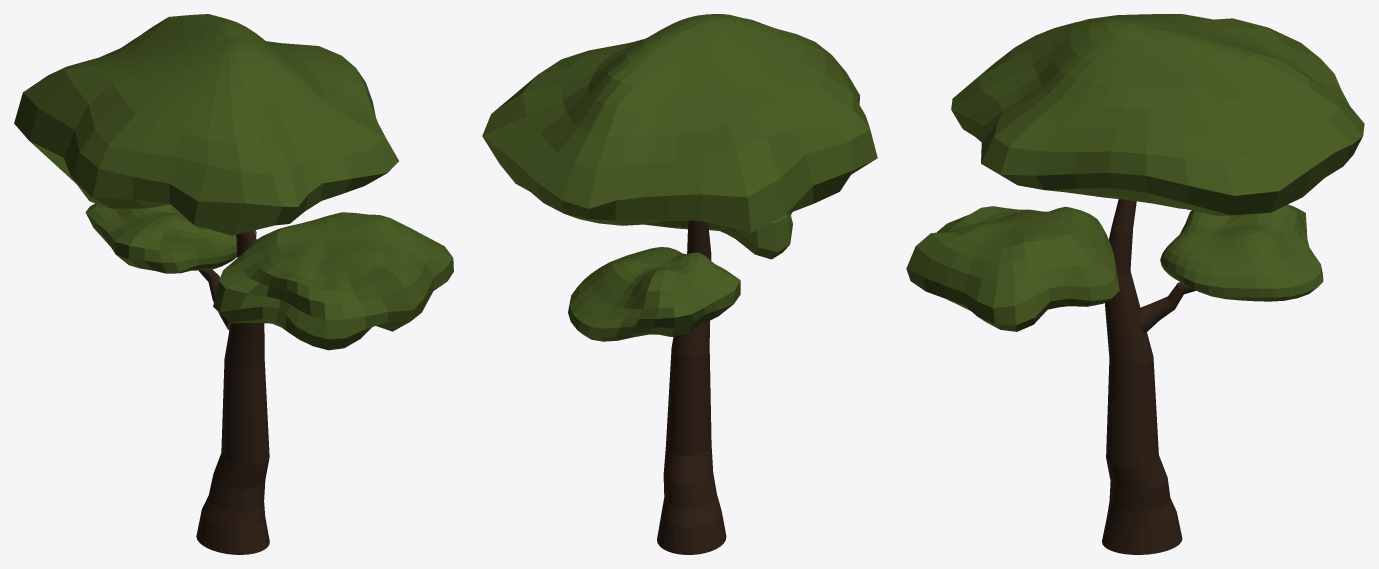
The model's file is Tree3.fbx.
The picture shows the model from 3 angles, left to right: view 1: azimuth 30°, elevation 25°; view 2: azimuth 150°, elevation 25°; view 3: azimuth 270°, elevation 25°; orthographic projection. The views are drawn at different scales.
Visible parts, largest first — view 1: Tree3_LOD0; view 2: Tree3_LOD0; view 3: Tree3_LOD0.
Part boxes in pixels (x1,y1,x2,y2): Tree3_LOD0: (14,14,453,554); Tree3_LOD0: (482,14,877,554); Tree3_LOD0: (906,14,1364,554).
Size of what is drawn, in the model's own units: 388 by 592 by 479.
